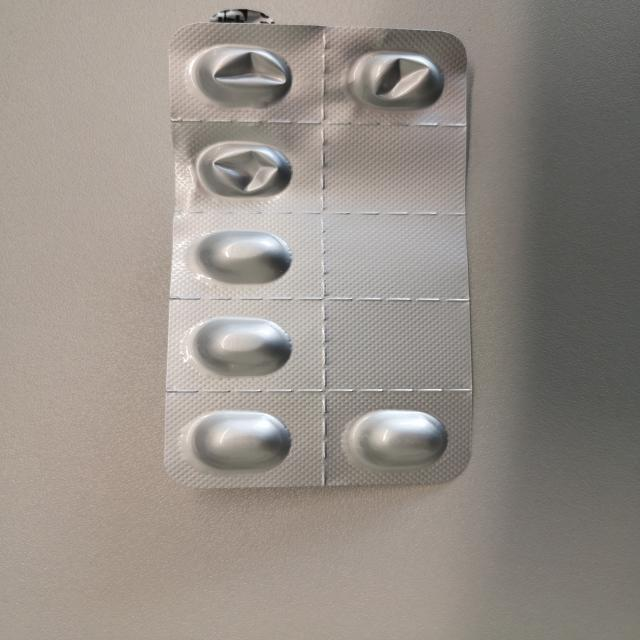Empty: (185, 37, 305, 111), (187, 132, 301, 205), (342, 45, 449, 111)
Pill: (179, 398, 303, 472), (189, 310, 310, 380), (342, 400, 458, 469), (190, 222, 306, 288)
